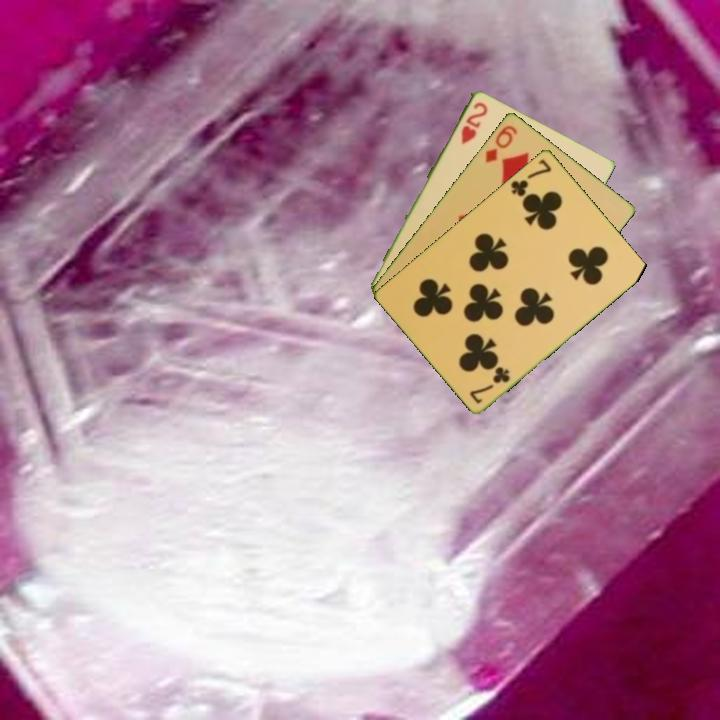2h: (457, 98, 491, 147)
6d: (481, 121, 520, 165)
7c: (507, 155, 554, 199), (466, 363, 513, 406)
